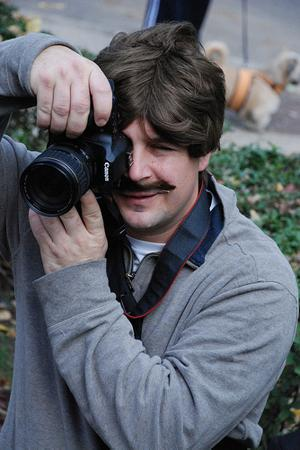person: (2, 21, 296, 449)
